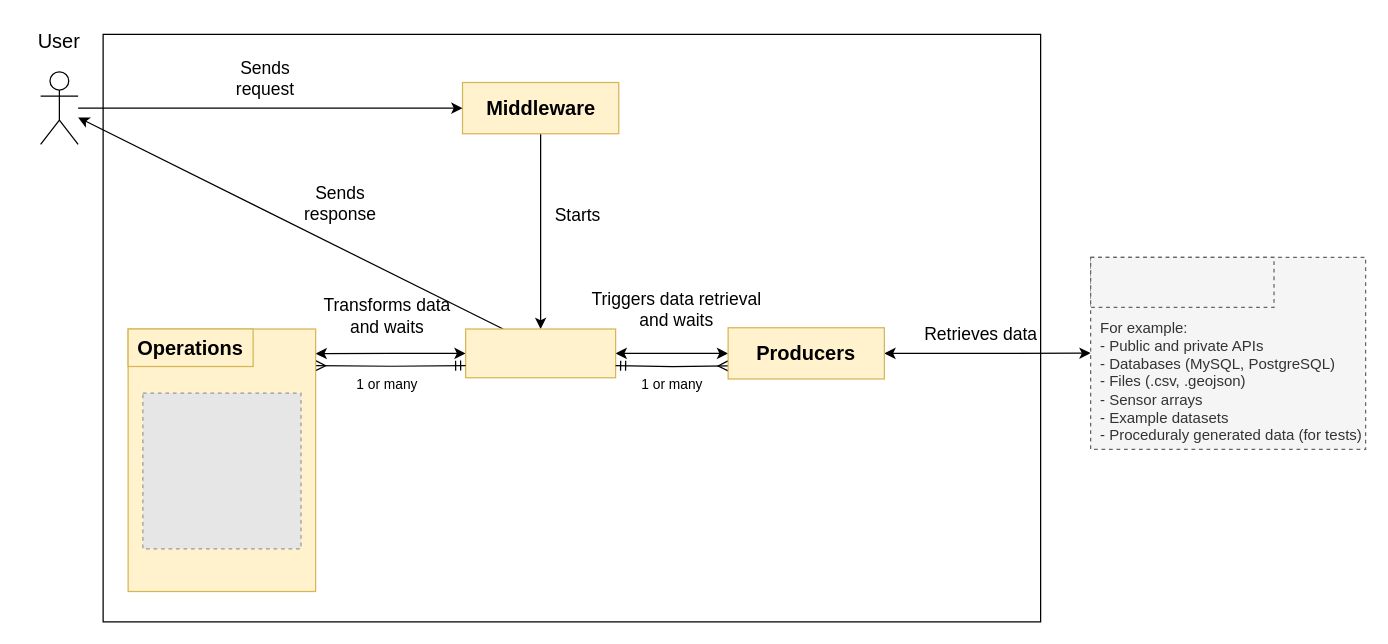
Image size: 1388x644. Some labels were removed from this diagram. Grey dashed boxes stand in for pictures. Each missing label, with the centre of its shape:
Data Sources: point 1181,281
Runner: point 540,353
